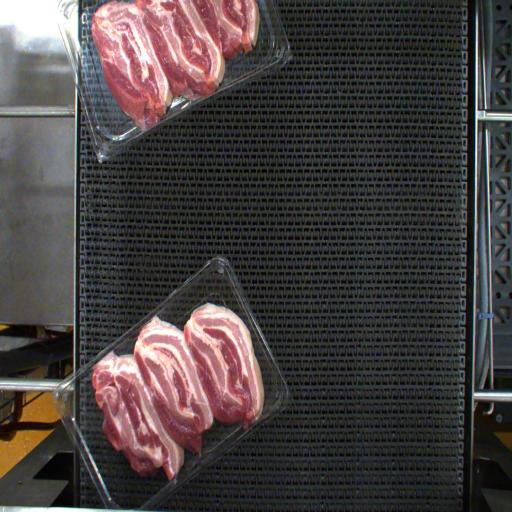packaging-error: (86, 336, 120, 369)
